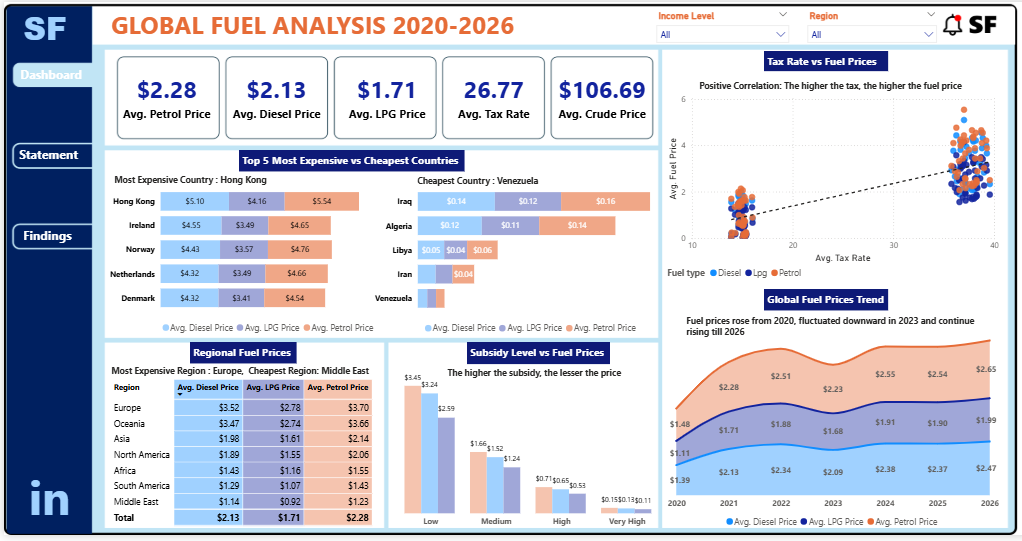

What the dashboard file says about the page in this screenshot:
{"tool":"powerbi","page":{"name":"Dashboard","canvas":[1580,820],"ordinal":0},"visuals":[{"type":"scatterChart","title":"Global Fuel Price by Tax Rate","fields":{"Category":["Global_fuel_prices_202_2026.country"],"X":["Global_fuel_prices_202_2026.Avg. Tax Rate"],"Y":["Global_fuel_prices_202_2026.Avg. Fuel Price"],"Series":["Global_fuel_prices_202_2026.Fuel type"]},"box":[1016,136,520,300],"z":0},{"type":"tableEx","title":"Global Fuel Prices by Region","fields":{"Values":["Global_fuel_prices_202_2026.region","Global_fuel_prices_202_2026.Avg. Diesel Price","Global_fuel_prices_202_2026.Avg. LPG Price","Global_fuel_prices_202_2026.Avg. Petrol Price"]},"box":[156.2,575,417.5,241.2],"z":1000},{"type":"clusteredColumnChart","title":"Global Fuel Prices by Subsidy Level","fields":{"Category":["Global_fuel_prices_202_2026.subsidy_level"],"Y":["Global_fuel_prices_202_2026.Avg. Petrol Price","Global_fuel_prices_202_2026.Avg. Diesel Price","Global_fuel_prices_202_2026.Avg. LPG Price"]},"box":[571.2,555,473.8,261.2],"z":2000},{"type":"stackedAreaChart","title":"Global Fuel Price Yearly Trend","fields":{"Category":["Global_fuel_prices_202_2026.date.Variation.Date Hierarchy.Year"],"Y":["Global_fuel_prices_202_2026.Avg. Diesel Price","Global_fuel_prices_202_2026.Avg. LPG Price","Global_fuel_prices_202_2026.Avg. Petrol Price"]},"box":[1015.7,477.1,520,341.4],"z":3000},{"type":"barChart","title":"5 Cheapest Country","fields":{"Category":["Global_fuel_prices_202_2026.country"],"Y":["Global_fuel_prices_202_2026.Avg. Diesel Price","Global_fuel_prices_202_2026.Avg. LPG Price","Global_fuel_prices_202_2026.Avg. Petrol Price"]},"box":[564,264,494,256],"z":4000},{"type":"barChart","fields":{"Category":["Global_fuel_prices_202_2026.country"],"Y":["Global_fuel_prices_202_2026.Avg. Diesel Price","Global_fuel_prices_202_2026.Avg. LPG Price","Global_fuel_prices_202_2026.Avg. Petrol Price"]},"box":[156.7,265,501.7,255],"z":5000},{"type":"card","fields":{"Values":["Global_fuel_prices_202_2026.Avg. Diesel Price"]},"box":[342,98,156,94],"z":6000},{"type":"card","fields":{"Values":["Global_fuel_prices_202_2026.Avg. LPG Price"]},"box":[518,98,142,94],"z":7000},{"type":"card","fields":{"Values":["Global_fuel_prices_202_2026.Avg. Petrol Price"]},"box":[176,98,150,94],"z":8000},{"type":"card","fields":{"Values":["Global_fuel_prices_202_2026.Avg. Tax Rate"]},"box":[682,98,144,94],"z":9000},{"type":"card","fields":{"Values":["Global_fuel_prices_202_2026.Avg. Crude Price"]},"box":[846,98,148,94],"z":10000},{"type":"textbox","box":[1168.6,441.4,191.4,32.9],"z":11000},{"type":"textbox","box":[1168.6,75.7,191.4,31.4],"z":12000},{"type":"textbox","box":[712.3,523.1,220,33.8],"z":13000},{"type":"textbox","box":[361.4,227.1,347.1,32.9],"z":14000},{"type":"textbox","box":[285.7,522.9,164.3,32.9],"z":15000},{"type":"textbox","box":[165,260,353.3,31.7],"z":16000},{"type":"textbox","box":[630,262,354,30],"z":17000},{"type":"textbox","box":[160,554.3,415.7,31.4],"z":18000},{"type":"textbox","box":[676.9,556.9,284.6,30.8],"z":19000},{"type":"textbox","box":[1064.3,115.7,444.3,30],"z":20000},{"type":"textbox","box":[1045,477.5,465,47.5],"z":21000},{"type":"textbox","box":[160.3,5.2,655.2,67.2],"z":22000},{"type":"textbox","box":[20.7,93.1,132.8,43.1],"z":23000},{"type":"slicer","fields":{"Values":["Global_fuel_prices_202_2026.income_level"]},"box":[994.5,8.2,223.6,57.3],"z":24000},{"type":"textbox","box":[19,217.2,110.3,46.6],"z":25000},{"type":"textbox","box":[24.1,341.4,110.3,46.6],"z":26000},{"type":"textbox","box":[12,0,102,86],"z":27000},{"type":"slicer","fields":{"Values":["Global_fuel_prices_202_2026.Region"]},"box":[1226.4,8.2,219.1,60.9],"z":28000},{"type":"textbox","box":[7.3,706.4,124.5,110],"z":29000}]}

Visuals, with their boxes in screenshot pixels (x1, y1, x2, y2), scaled from the page's 1580x820 canvas onto the 1022x541 screenshot:
"Global Fuel Price by Tax Rate" scatterChart: [left=657, top=90, right=994, bottom=288]
"Global Fuel Prices by Region" tableEx: [left=101, top=379, right=371, bottom=538]
"Global Fuel Prices by Subsidy Level" clusteredColumnChart: [left=369, top=366, right=676, bottom=538]
"Global Fuel Price Yearly Trend" stackedAreaChart: [left=657, top=315, right=993, bottom=540]
"5 Cheapest Country" barChart: [left=365, top=174, right=684, bottom=343]
barChart - Global_fuel_prices_202_2026.country x Global_fuel_prices_202_2026.Avg. Diesel Price: [left=101, top=175, right=426, bottom=343]
card - Global_fuel_prices_202_2026.Avg. Diesel Price: [left=221, top=65, right=322, bottom=127]
card - Global_fuel_prices_202_2026.Avg. LPG Price: [left=335, top=65, right=427, bottom=127]
card - Global_fuel_prices_202_2026.Avg. Petrol Price: [left=114, top=65, right=211, bottom=127]
card - Global_fuel_prices_202_2026.Avg. Tax Rate: [left=441, top=65, right=534, bottom=127]
card - Global_fuel_prices_202_2026.Avg. Crude Price: [left=547, top=65, right=643, bottom=127]
textbox: [left=756, top=291, right=880, bottom=313]
textbox: [left=756, top=50, right=880, bottom=71]
textbox: [left=461, top=345, right=603, bottom=367]
textbox: [left=234, top=150, right=458, bottom=172]
textbox: [left=185, top=345, right=291, bottom=367]
textbox: [left=107, top=172, right=335, bottom=192]
textbox: [left=408, top=173, right=636, bottom=193]
textbox: [left=103, top=366, right=372, bottom=386]
textbox: [left=438, top=367, right=622, bottom=388]
textbox: [left=688, top=76, right=976, bottom=96]
textbox: [left=676, top=315, right=977, bottom=346]
textbox: [left=104, top=3, right=527, bottom=48]
textbox: [left=13, top=61, right=99, bottom=90]
slicer - Global_fuel_prices_202_2026.income_level: [left=643, top=5, right=788, bottom=43]
textbox: [left=12, top=143, right=84, bottom=174]
textbox: [left=16, top=225, right=87, bottom=256]
textbox: [left=8, top=0, right=74, bottom=57]
slicer - Global_fuel_prices_202_2026.Region: [left=793, top=5, right=935, bottom=46]
textbox: [left=5, top=466, right=85, bottom=539]
